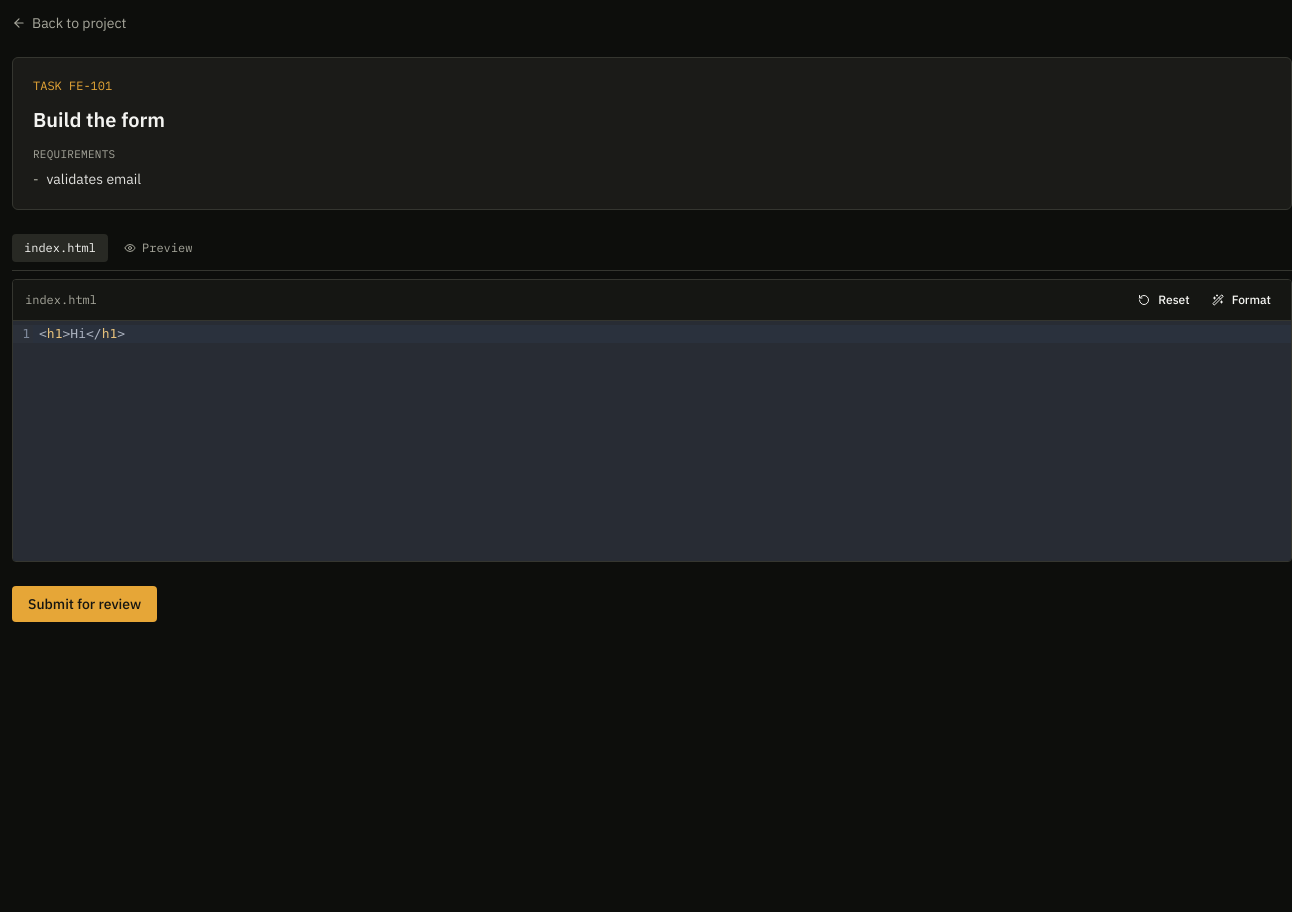
Scenario: ProjectTaskRunner › after a review › falls back to returning to the project when there is no next task
Step 1. Click the button "Submit for review" → (85, 604), box [12,586,157,622]
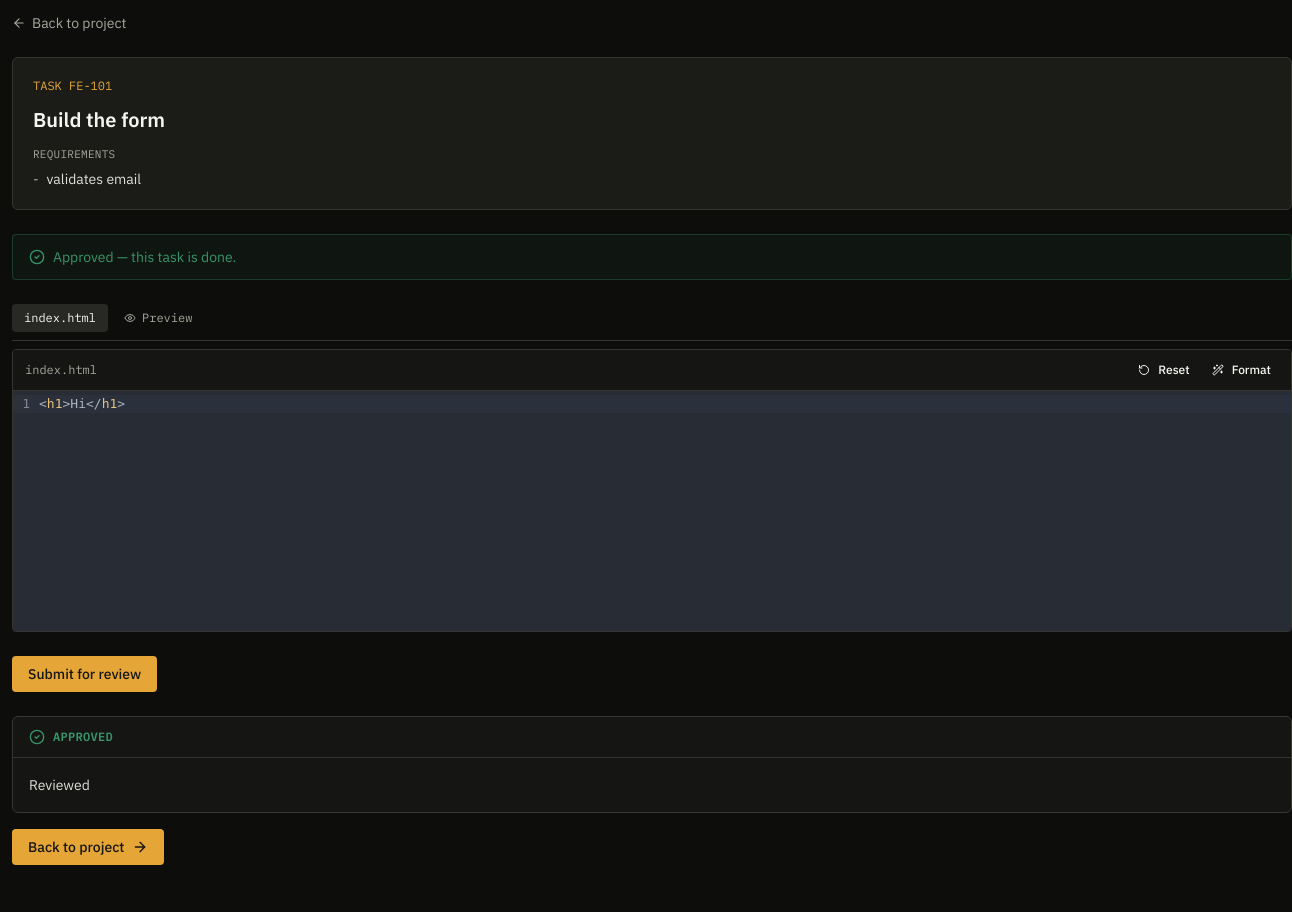
expect the text "Reviewed" is shown: met, box [29,776,90,794]
expect the number of links "Back to project" is 2: met, box [12,13,126,33]; [12,829,164,865]
